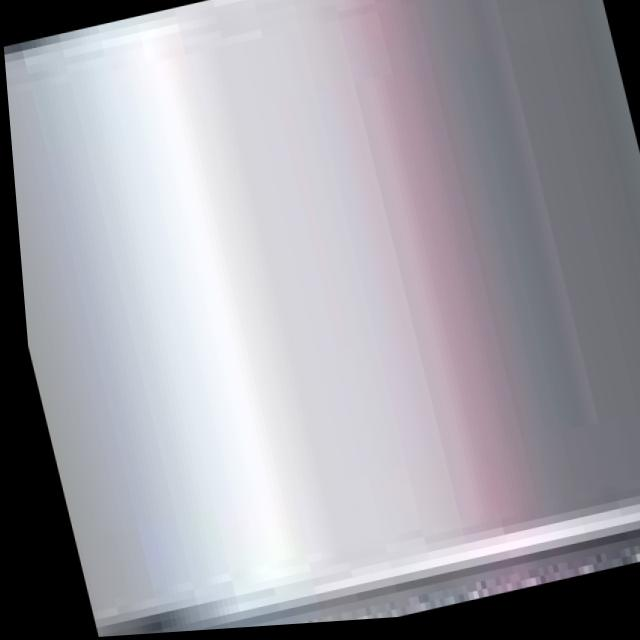metal-plates: (4, 1, 640, 626)
